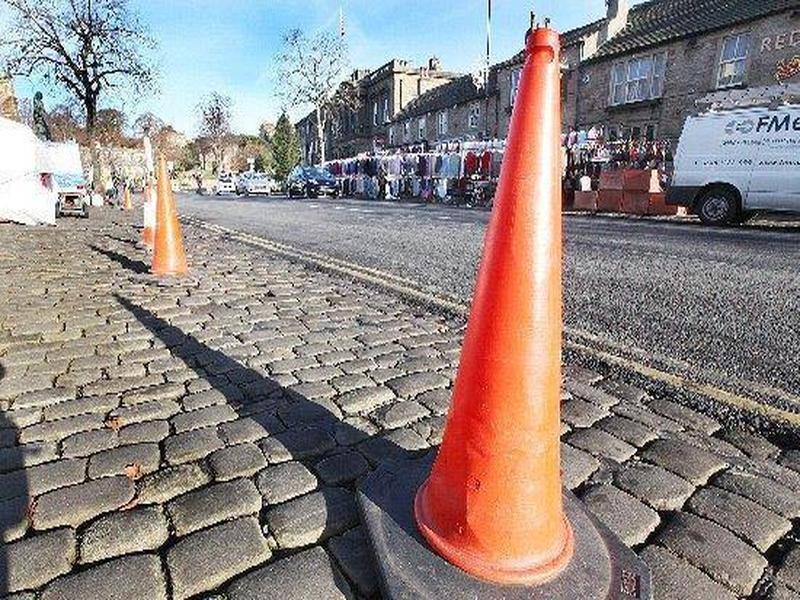Cone: (353, 27, 654, 599), (132, 153, 206, 287)
